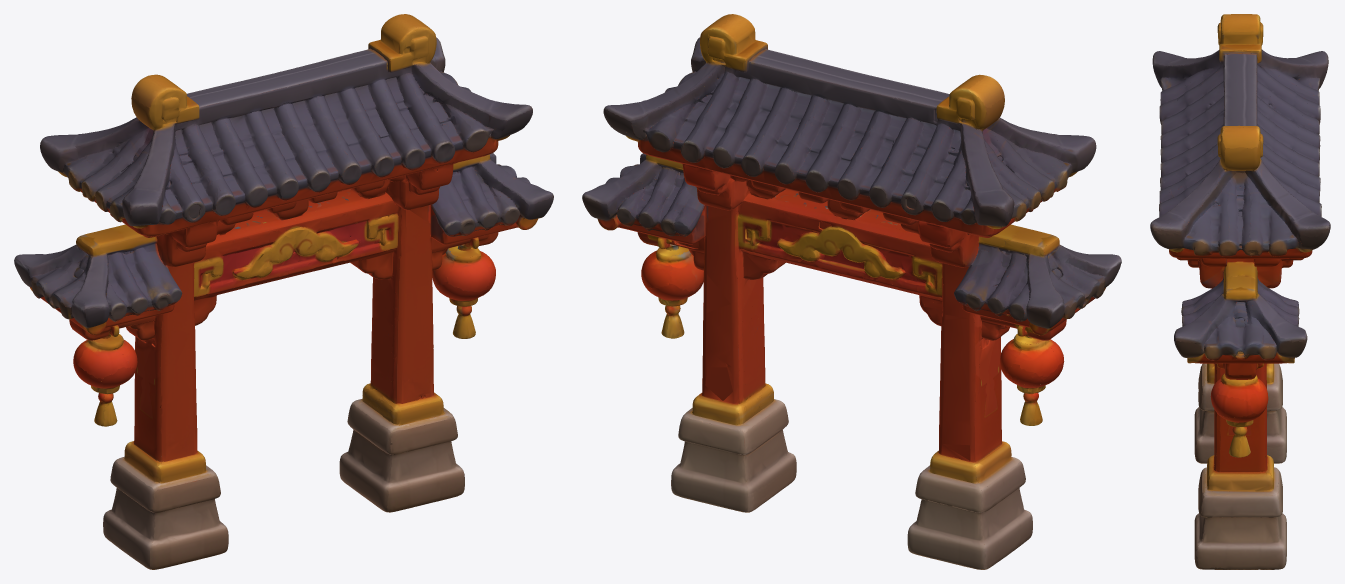
File: DistrictHeritageAI.fbx
3 renders of one model, left to right at view 1: azimuth 30°, elevation 25°; view 2: azimuth 150°, elevation 25°; view 3: azimuth 270°, elevation 25°, orthographic. The views are drawn at different scales.
Parts seen in each view (by area): view 1: geometry_0; view 2: geometry_0; view 3: geometry_0.
Part boxes in pixels (bbox=[...]): geometry_0: bbox=[14, 14, 553, 569]; geometry_0: bbox=[582, 14, 1121, 569]; geometry_0: bbox=[1150, 14, 1330, 569].
Size of the model in its own units: 1 by 0.9454 by 0.3607.
